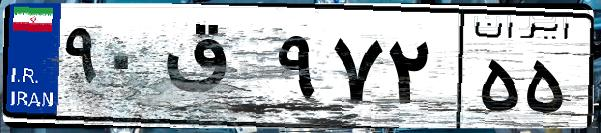0: (110, 28, 158, 98)
2: (385, 28, 445, 110)
5: (475, 38, 525, 113), (525, 38, 570, 115)
7: (330, 28, 385, 110)
9: (270, 28, 330, 110), (57, 26, 110, 100)
ق: (158, 20, 270, 120)
